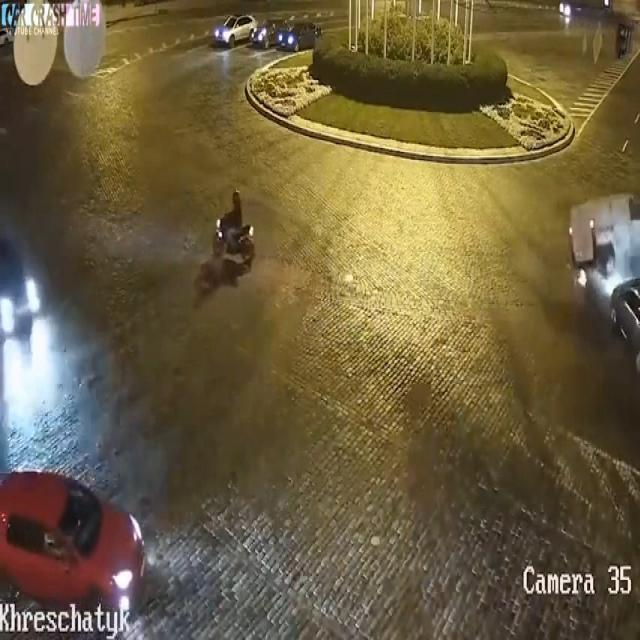Accident: (575, 185, 640, 358)
